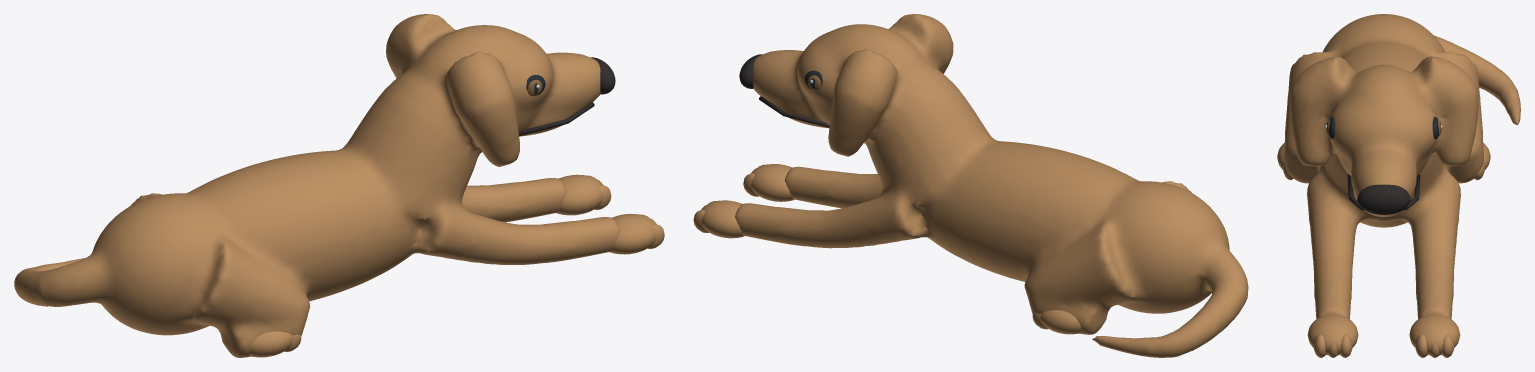
The model's file is nature-dog-medium-lying.glb.
3 renders of one model, left to right at view 1: azimuth 30°, elevation 25°; view 2: azimuth 150°, elevation 25°; view 3: azimuth 270°, elevation 25°, orthographic. The views are drawn at different scales.
Visible parts, largest first — view 1: Continuous anatomical skin, Rounded paw.002, Rounded paw, Rounded paw.001; view 2: Continuous anatomical skin, Rounded paw, Rounded paw.002, Rounded paw.003; view 3: Continuous anatomical skin, Nose, Rounded paw, Rounded paw.002, Toe.008, Toe, Toe.006, Toe.002.
Boxes of the visible parts, x1,y1,x2,y2 form: Continuous anatomical skin: (14,14,620,357); Rounded paw.002: (556,174,602,215); Rounded paw: (610,213,656,254); Rounded paw.001: (248,331,292,357); Continuous anatomical skin: (735,14,1248,357); Rounded paw: (751,164,794,201); Rounded paw.002: (701,200,744,238); Rounded paw.003: (1040,310,1081,334); Continuous anatomical skin: (1283,14,1520,319); Nose: (1357,184,1410,214); Rounded paw: (1307,315,1358,355); Rounded paw.002: (1409,315,1460,355); Toe.008: (1441,334,1454,357); Toe: (1313,334,1325,357); Toe.006: (1415,334,1427,357); Toe.002: (1340,334,1352,357).
Size of the model in its own units: 1.01 by 0.39 by 0.3862.
5 materials, 5 textured.
